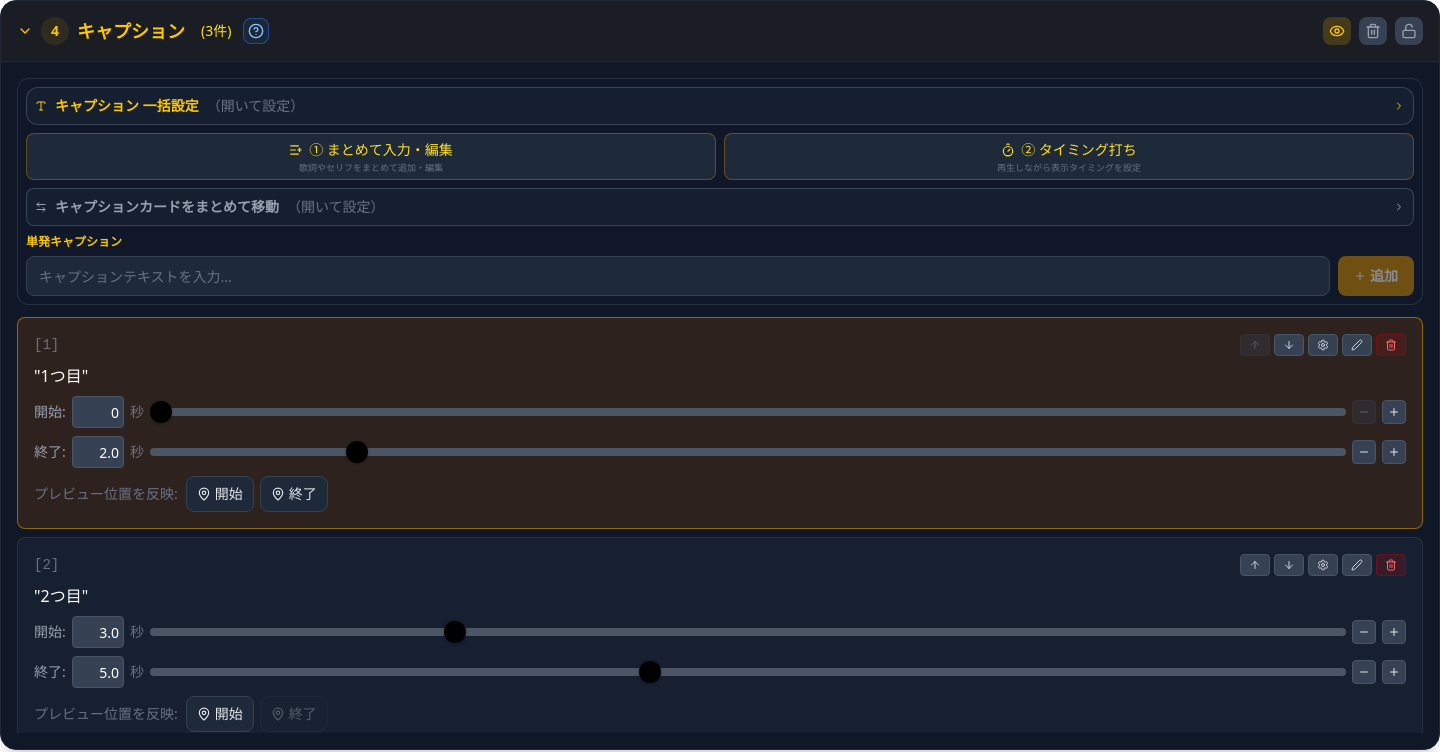
Test: タイミング打ちのプレビュー表示制御 › 対象のインデックスが一覧外になった場合はモードを終了する
This screenshot has width=1440, height=752.
Click the button "② タイミング打ち 再生しながら表示タイミングを設定" at coordinates (1069, 157), box 724,133 -> 1414,180
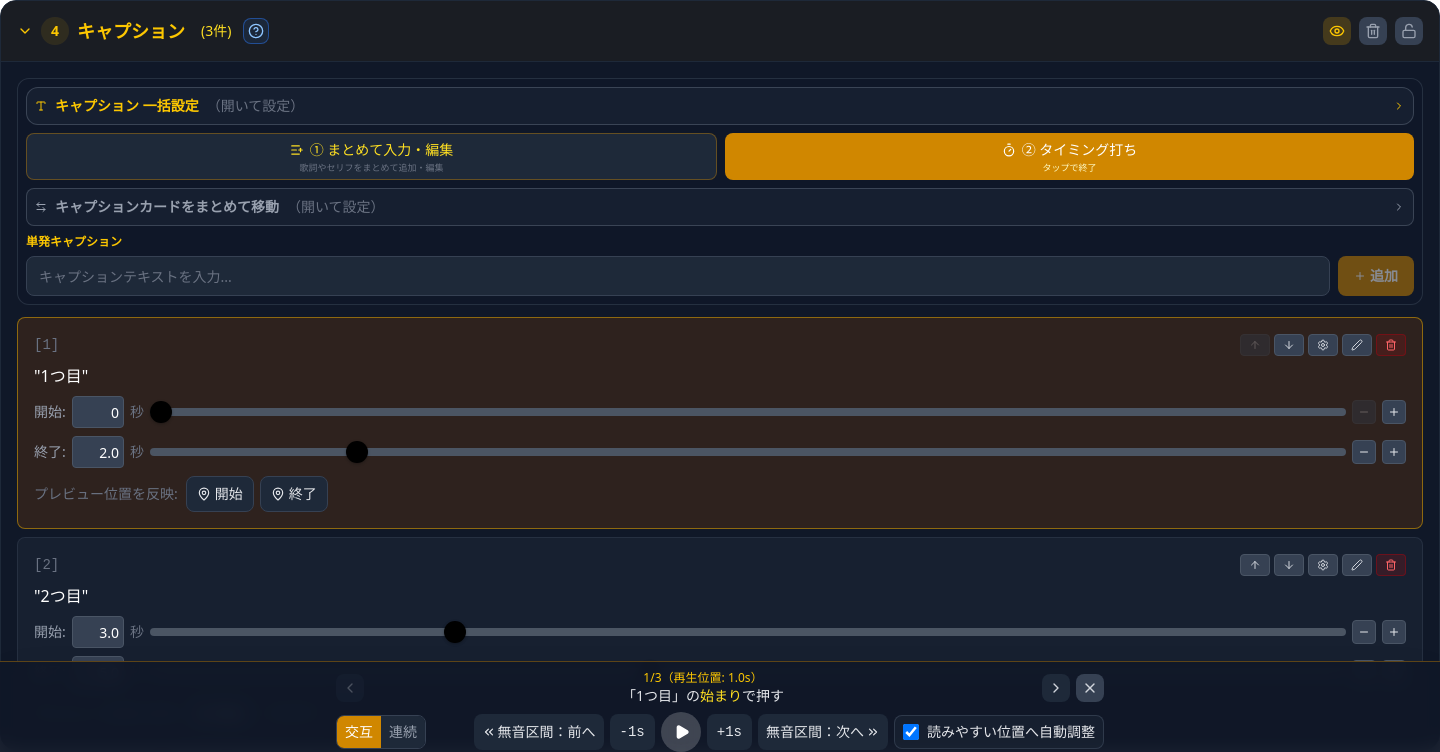
Click the button titled "次のキャプションへ" at coordinates (1056, 688), box 1042,674 -> 1070,702
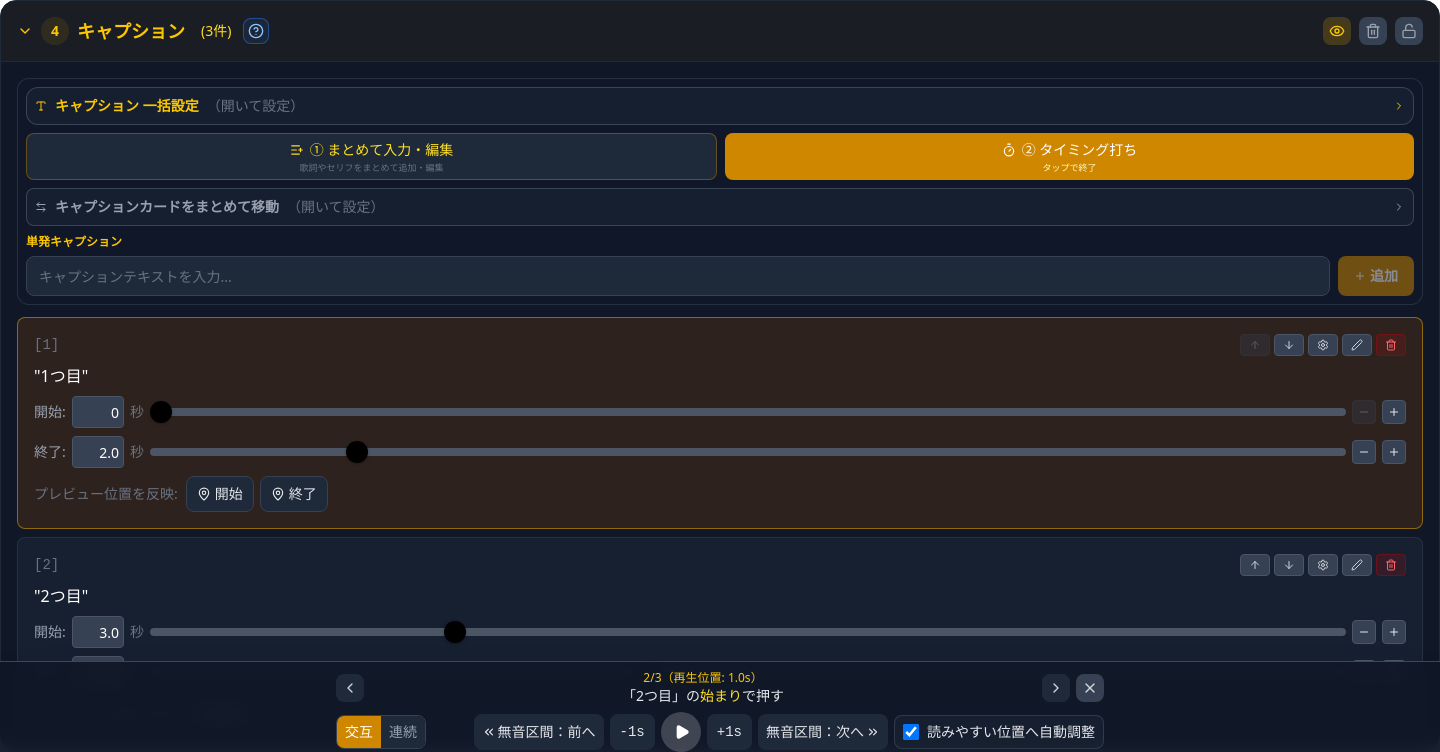
Click the button titled "次のキャプションへ" at coordinates (1056, 688), box 1042,674 -> 1070,702
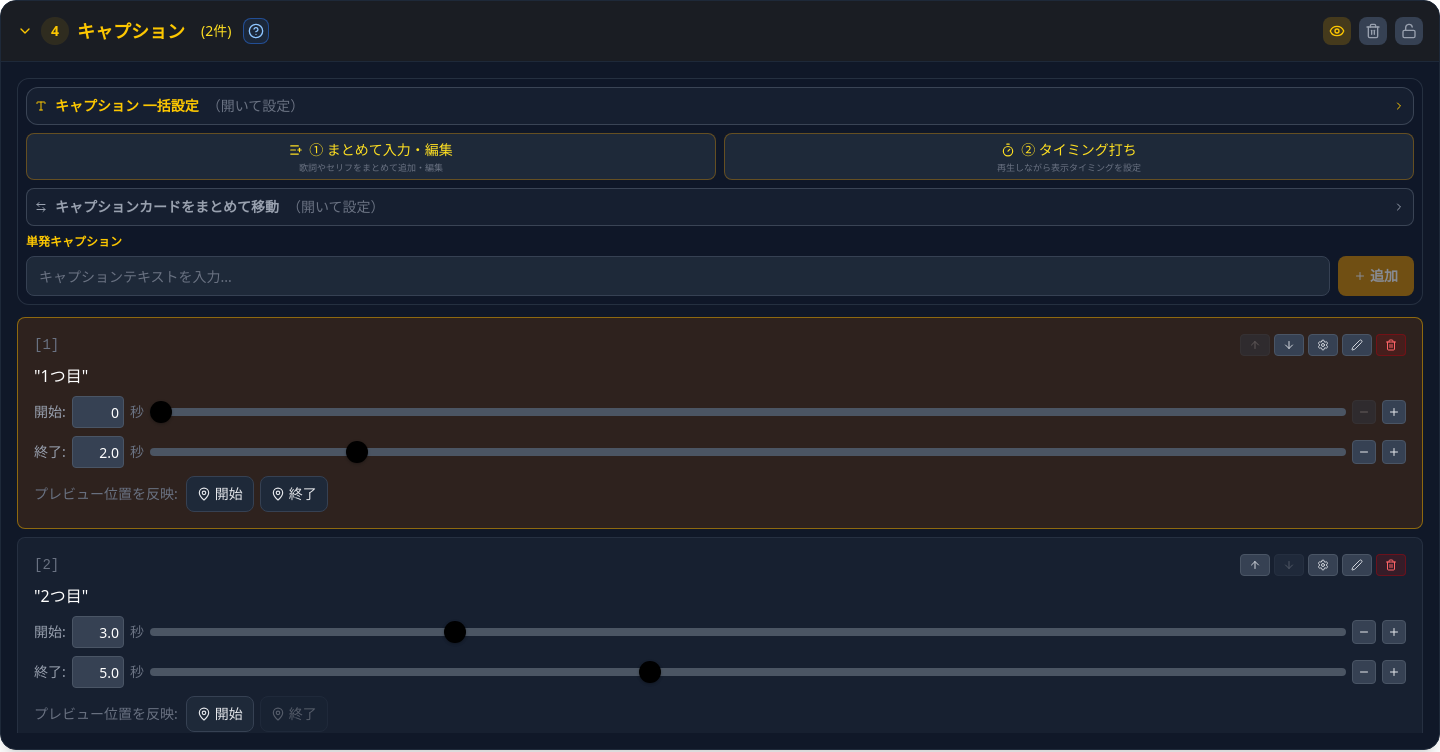
Expected: the element with test id "caption-stamp-transport" is gone
